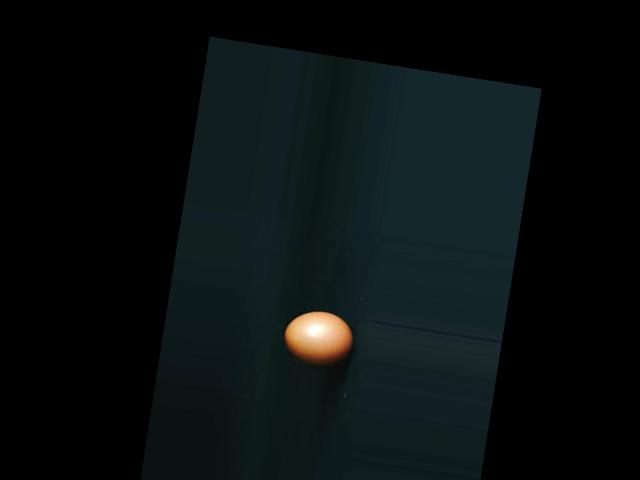egg: (281, 307, 357, 370)
